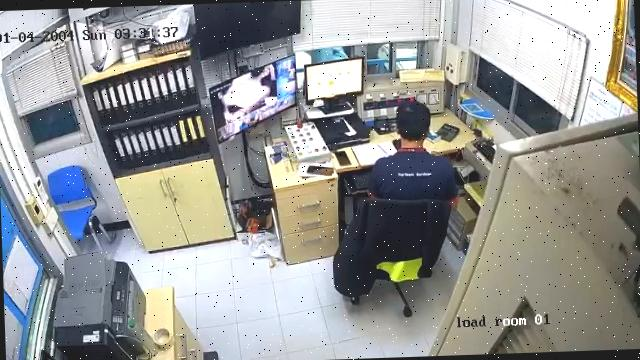Head: (397, 102, 430, 142)
People: (369, 102, 457, 207)
Phone: (307, 165, 333, 175), (335, 151, 350, 165)
